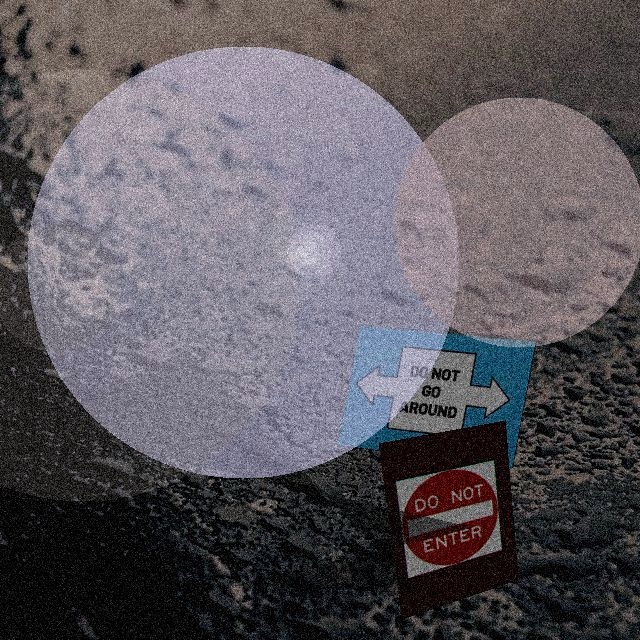DO_NOT_ENTER: (395, 459, 507, 580)
DO_NOT_GO_AROUND: (348, 341, 518, 443)
